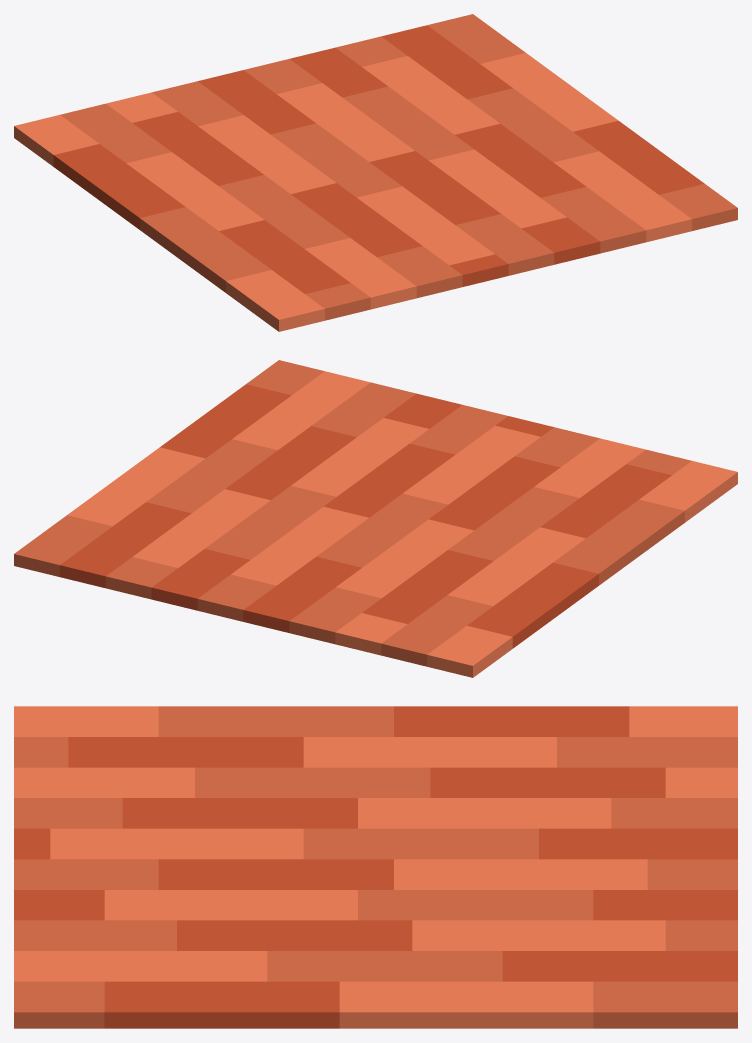
Rendered from floor_1.obj.
3 views of the same model, one above another, from view 1: azimuth 30°, elevation 25°; view 2: azimuth 150°, elevation 25°; view 3: azimuth 270°, elevation 25° (orthographic). The views are drawn at different scales.
Size of the model in its own units: 40 by 1 by 40.
Materials: 1 (1 with a texture image).
